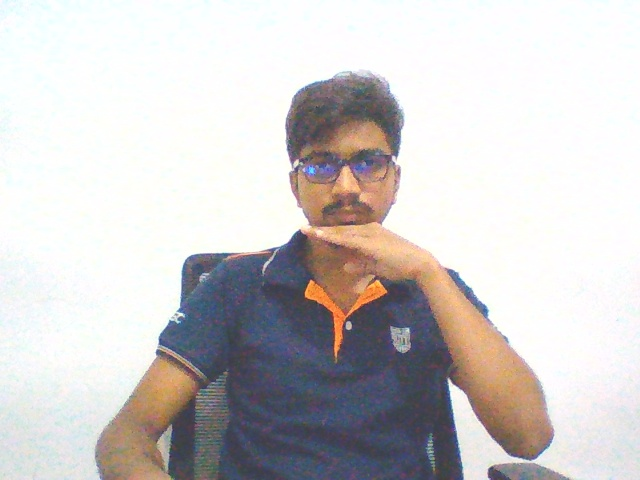elephant: (294, 218, 441, 292)
